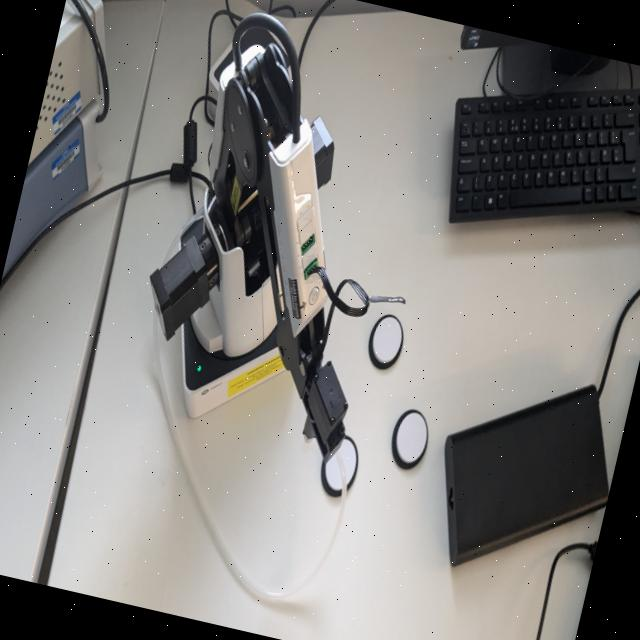Robot-end-effector-HF8z: (292, 354, 362, 468)
